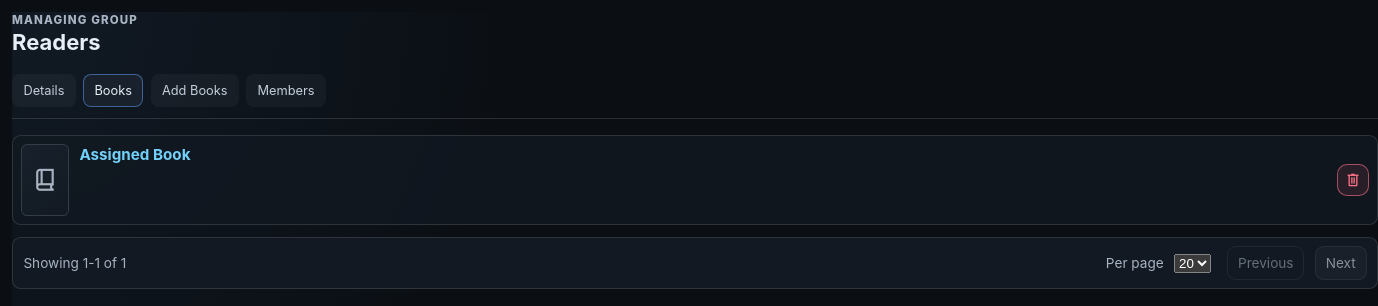
Test: GroupEditOrchestrator Book assignments › removes a confirmed Book, locks conflicting actions, and refreshes the assigned list
The width and height of the screenshot is (1378, 306).
What coordinates should you click on to do the following:
click the button named "Remove Assigned Book from group"
I would click on:
 (1353, 180)
Its box is left=1337, top=164, right=1369, bottom=196.
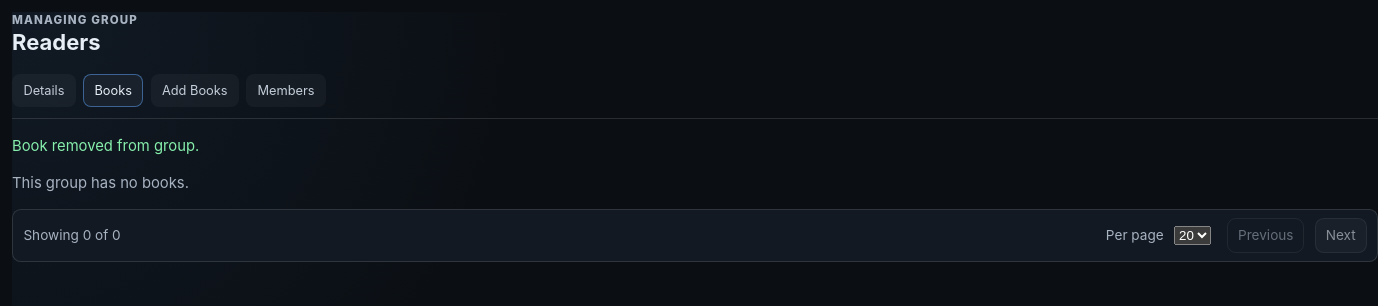
Check: the button "Previous" is disabled, box left=1227, top=218, right=1304, bottom=252
Check: the text "Assigned Book" is gone
